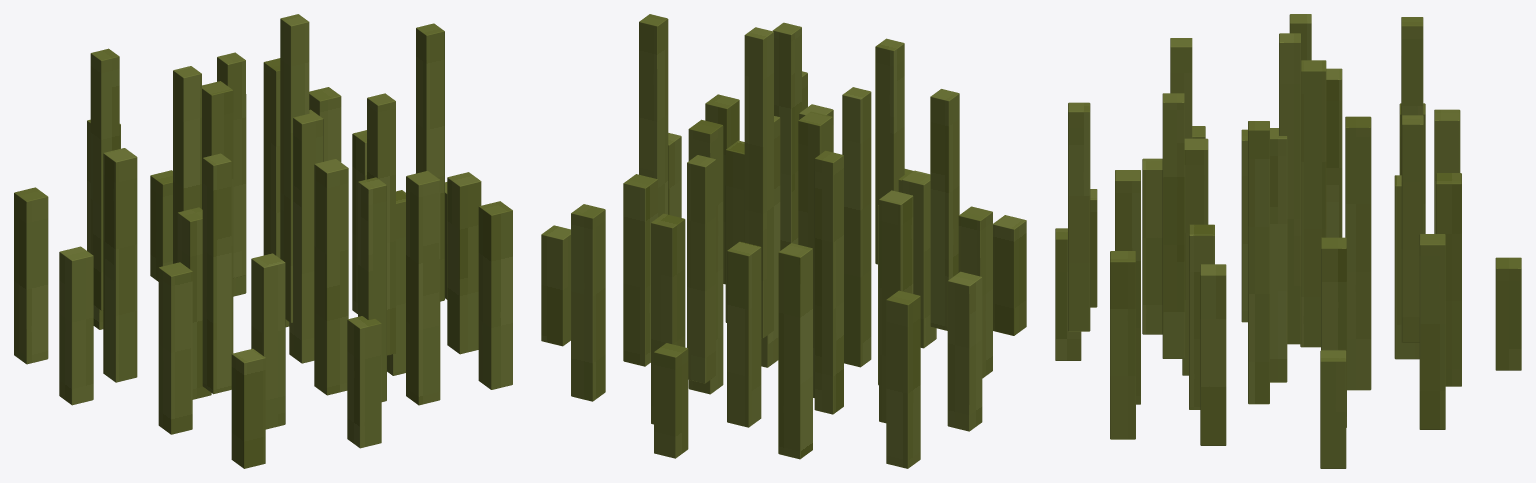
Rendered from Shoots.glb.
3 renders of one model, left to right at view 1: azimuth 30°, elevation 25°; view 2: azimuth 150°, elevation 25°; view 3: azimuth 270°, elevation 25°, orthographic.
Parts seen in each view (by area): view 1: Shoots; view 2: Shoots; view 3: Shoots.
Boxes of the visible parts, x1=… form: Shoots: x1=14, y1=14, x2=512, y2=468; Shoots: x1=541, y1=14, x2=1026, y2=468; Shoots: x1=1055, y1=14, x2=1521, y2=468.
Size of the model in its own units: 0.5064 by 0.3904 by 0.4888.
Materials: 1 (1 with a texture image).
